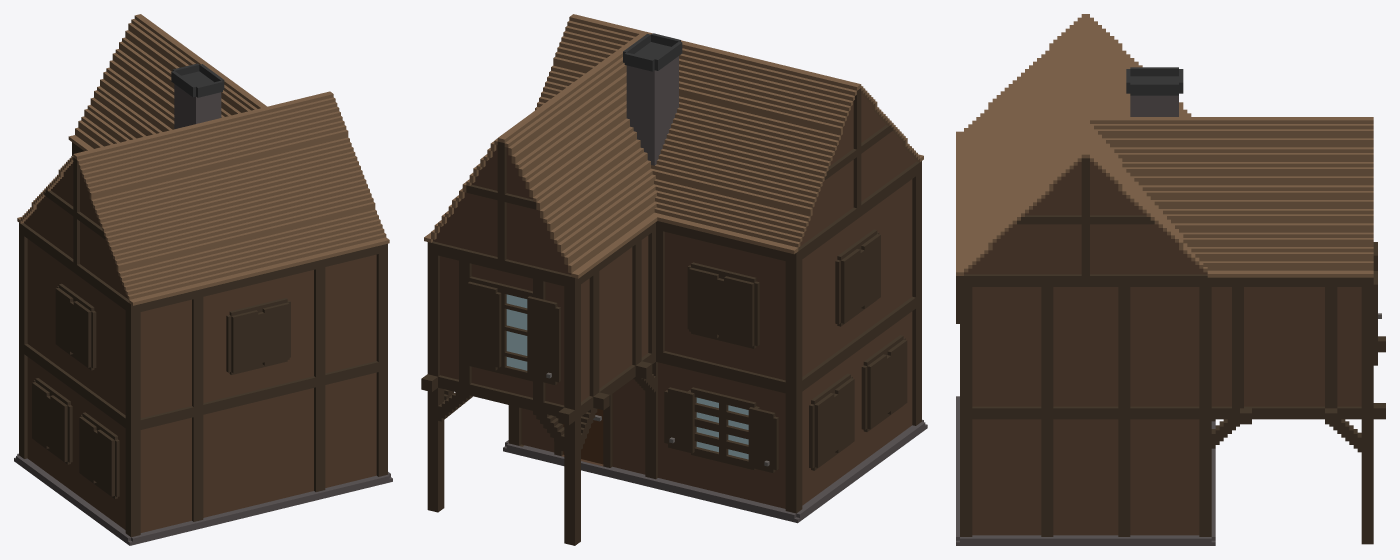
Rendered from Casa 05.obj.
3 renders of one model, left to right at view 1: azimuth 30°, elevation 25°; view 2: azimuth 150°, elevation 25°; view 3: azimuth 270°, elevation 25°, orthographic. The views are drawn at different scales.
Size of the model in its own units: 8.6 by 11.2 by 10.6.
1 material, 1 textured.
